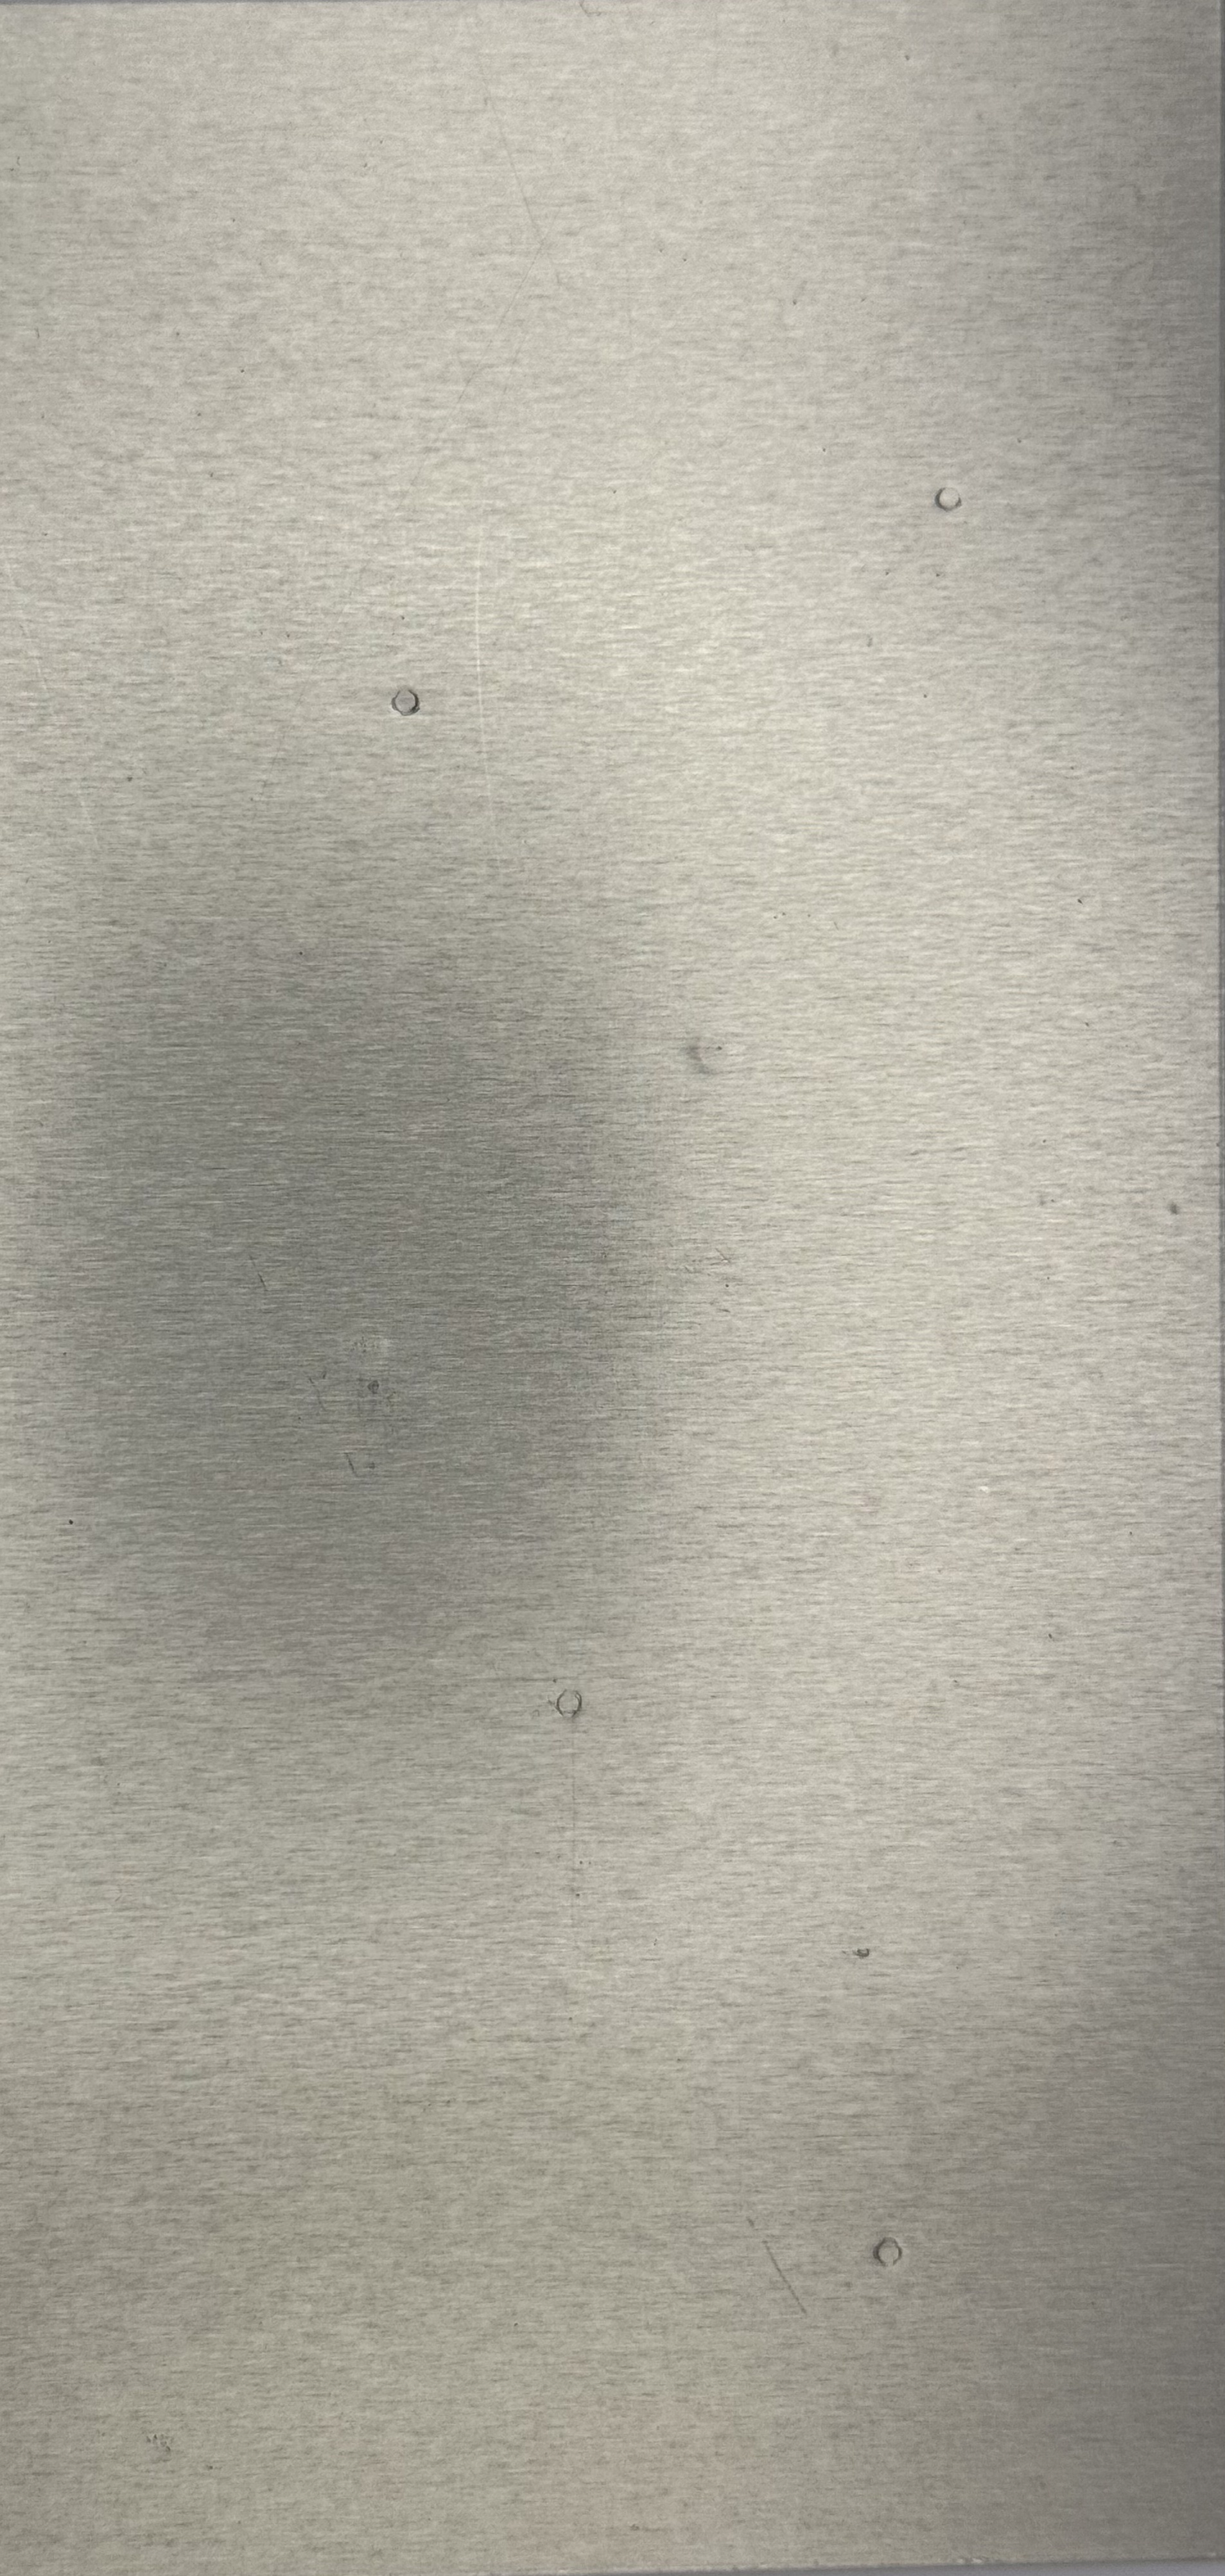Delle: (315, 1296, 430, 1413), (677, 1017, 752, 1091), (535, 1669, 604, 1733), (834, 1920, 892, 1980), (378, 670, 430, 734), (923, 465, 975, 526), (862, 2229, 920, 2279)
